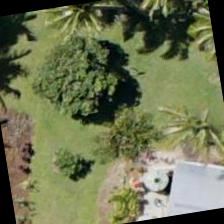Kelapa_Sawit: (149, 75, 223, 176)
